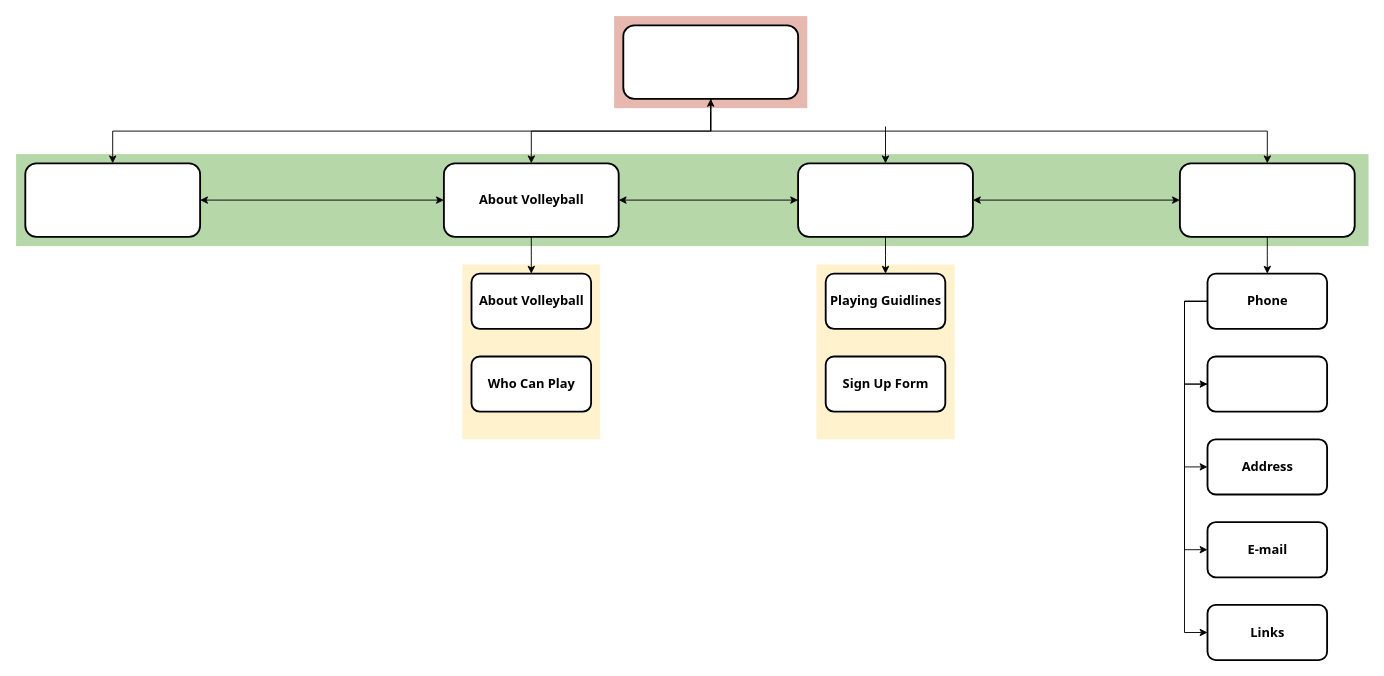
This 1384x676 diagram has some shape labels left out. Each missing label, with the centre of its shape:
"Announcements" goes at (112,199).
"Contacts" goes at (1267,199).
"Fax" goes at (1267,383).
"Home" goes at (710,61).
"Sign Up" goes at (885,199).
